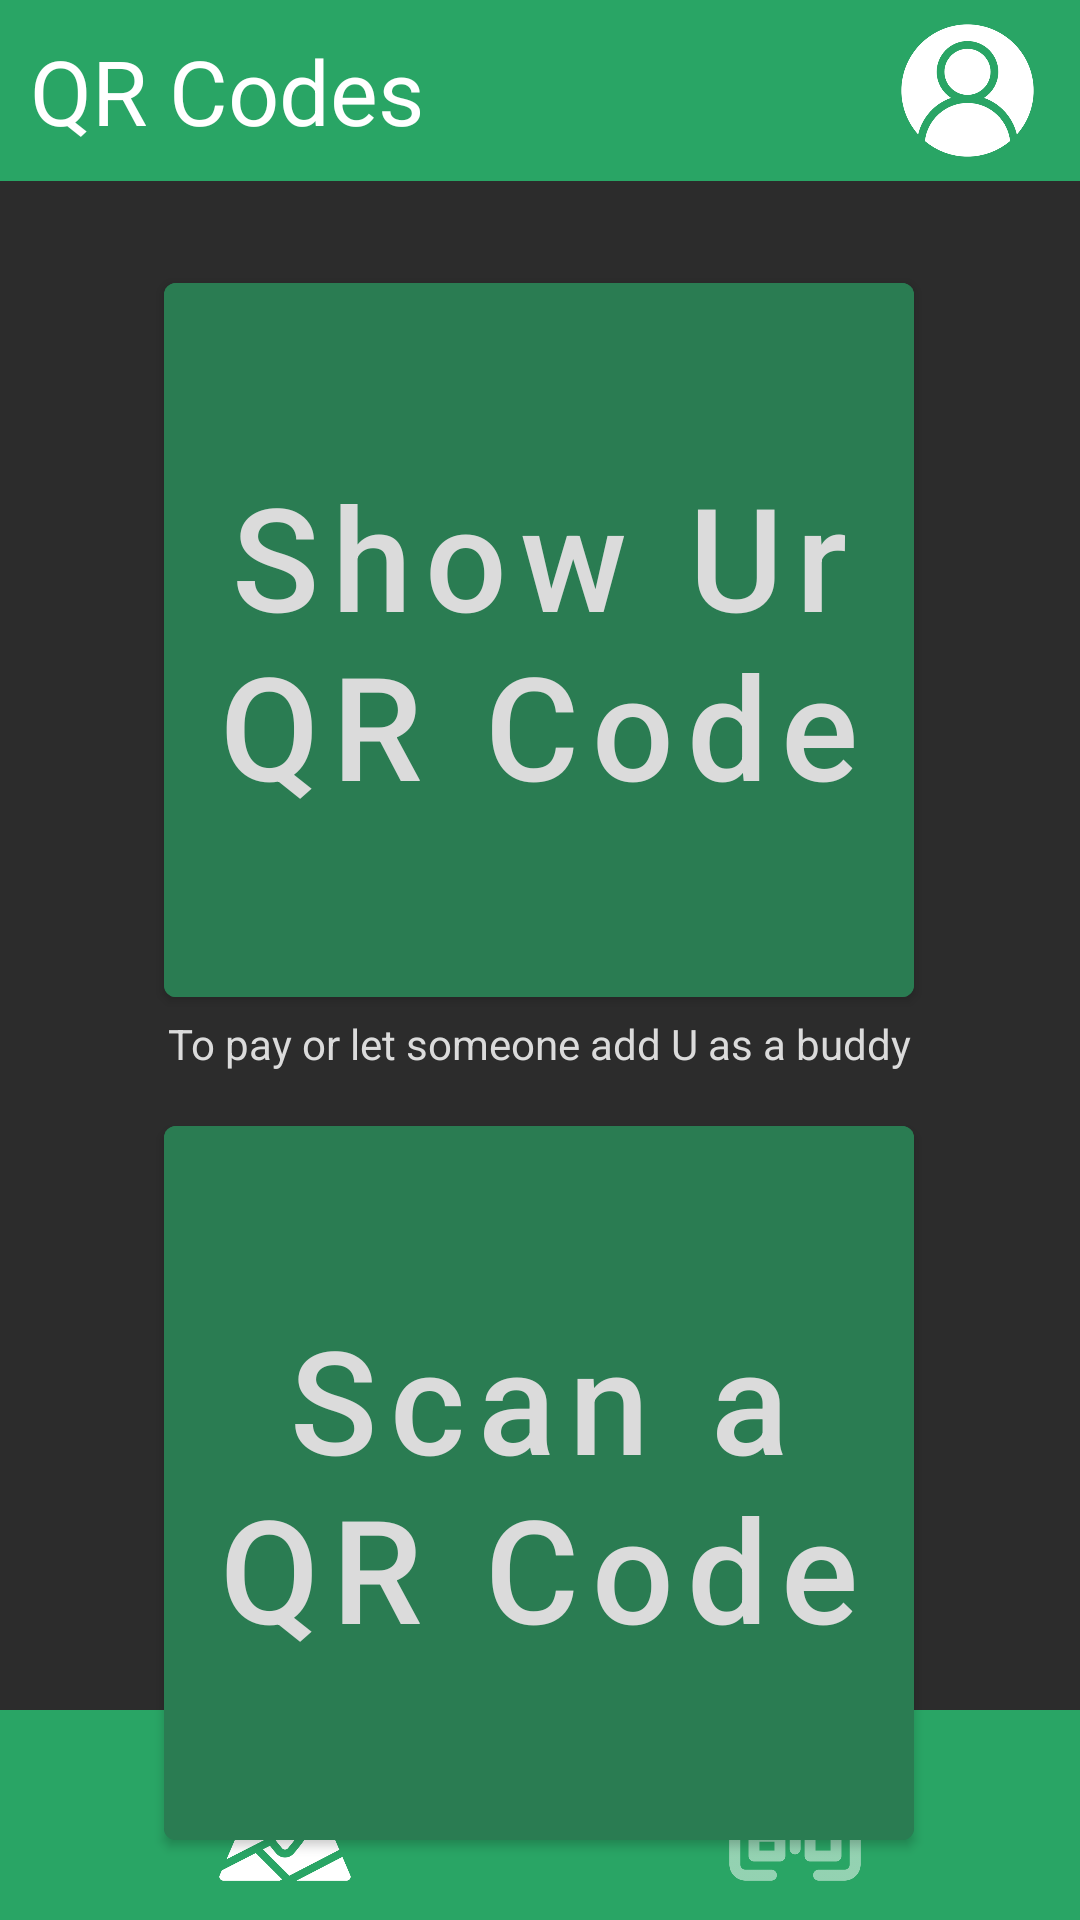

Icons on this 1080px×1920px Android screen, each with the point to tap as (x,y):
user: (967,90)
